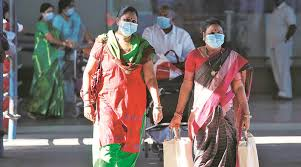mask: (203, 20, 227, 49), (116, 6, 138, 37), (156, 6, 175, 27), (59, 0, 77, 16), (39, 1, 54, 20)
